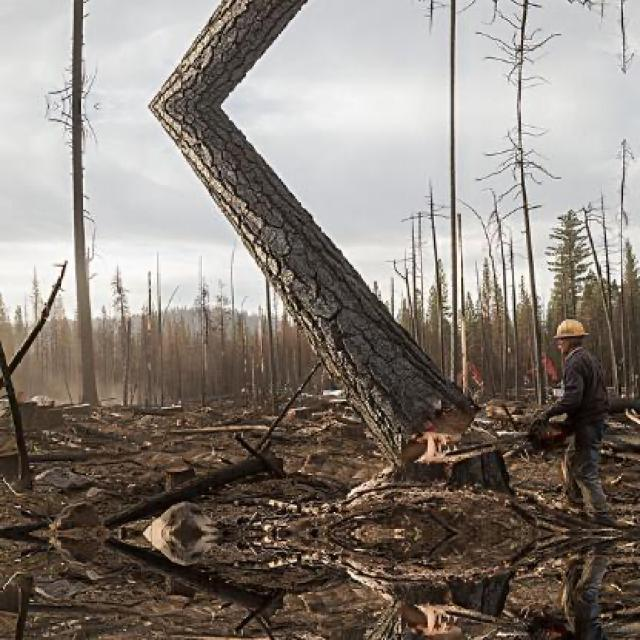helmet: (551, 315, 591, 359)
